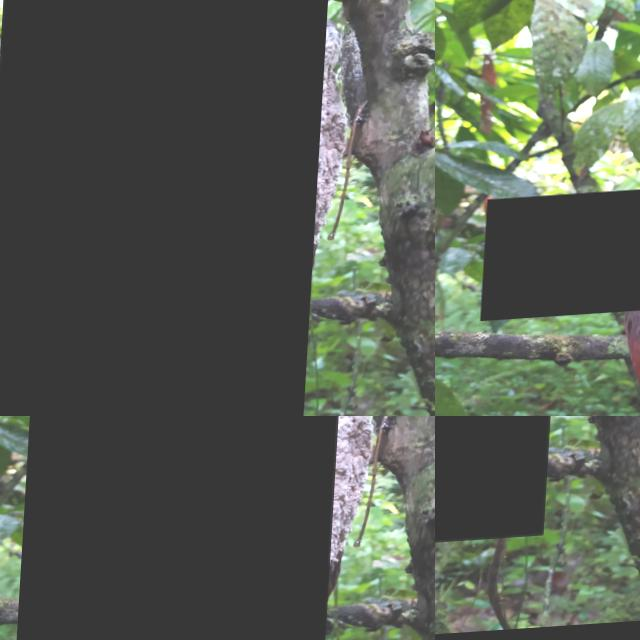Monilia: (435, 416, 567, 552)
Sana: (0, 0, 331, 416), (16, 416, 349, 640), (485, 185, 640, 323), (598, 0, 618, 15)
